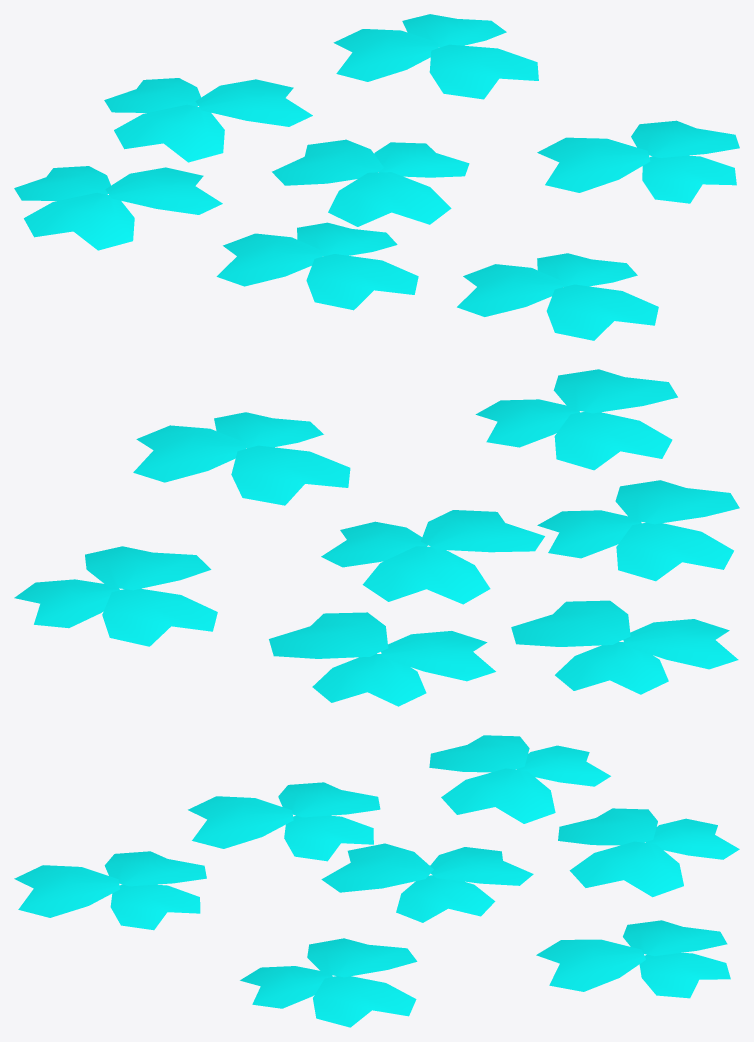
File: FlowerPile_2.fbx
3 renders of one model, top to bottom at view 1: azimuth 30°, elevation 25°; view 2: azimuth 150°, elevation 25°; view 3: azimuth 270°, elevation 25°, orthographic. The views are drawn at different scales.
Parts seen in each view (by area): view 1: FlowerPile_2; view 2: FlowerPile_2; view 3: FlowerPile_2.
Boxes of the visible parts, x1,y1,x2,y2 form: FlowerPile_2: [14, 14, 739, 340]; FlowerPile_2: [14, 369, 739, 706]; FlowerPile_2: [14, 735, 739, 1027].
Bounding box in the file's own units: 214 × 4.08 × 225.
